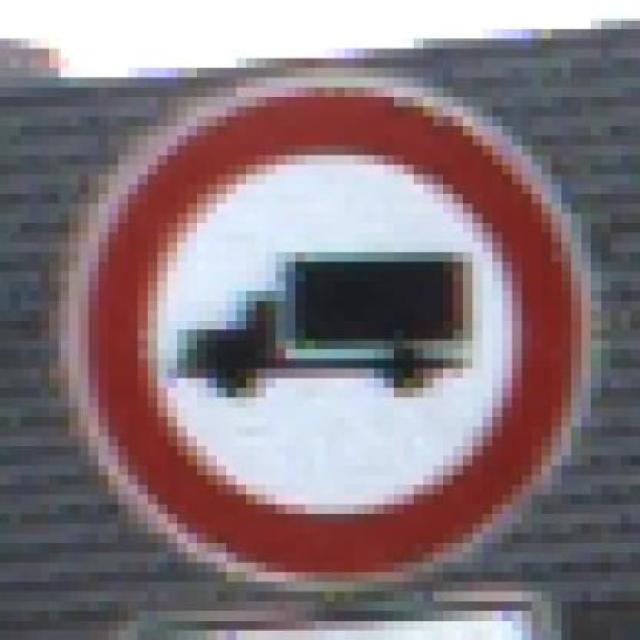Truck traffic is prohibited: (69, 19, 611, 612)
